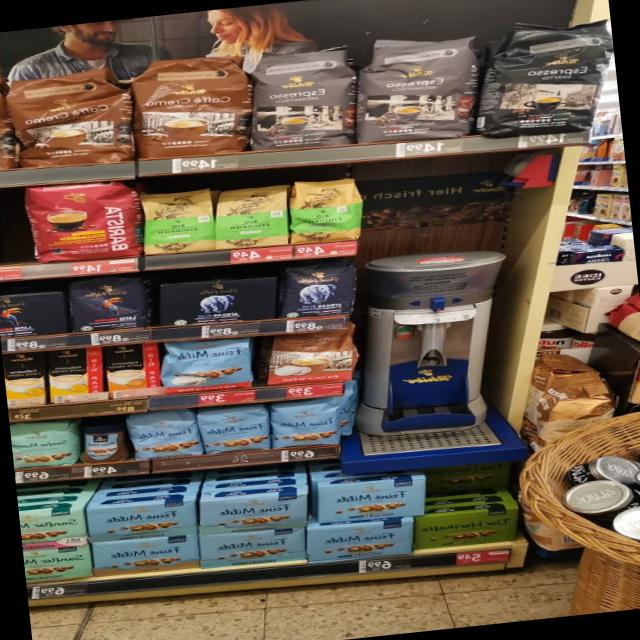AB Bohne: (277, 259, 367, 322)
AB Gemahlen: (152, 274, 282, 332)
Athiopien Bohne: (286, 175, 366, 246)
Athiopien Gemahlen: (208, 182, 295, 251), (138, 187, 216, 256)
Barista Kolumbien: (21, 178, 140, 267)
CC Vollmundig: (262, 327, 362, 389)
CC Vollmundig 36 Pads: (128, 53, 254, 162), (8, 65, 136, 170)
Espresso Aromatisch: (350, 31, 488, 147), (244, 44, 362, 152)
Espresso Kraftig: (468, 17, 618, 139)
FM 36 Pads: (157, 336, 258, 397)
FM Bohne: (267, 398, 345, 452), (196, 403, 271, 458), (126, 408, 200, 462)
FM Gemahlen: (310, 472, 436, 526), (194, 487, 312, 538), (306, 514, 416, 565), (85, 495, 199, 543), (89, 530, 200, 578), (198, 525, 309, 571)
FM Instant: (76, 420, 130, 464)
Herzhatfe Mundig: (409, 502, 525, 554)
LG Bohne: (63, 272, 153, 336)
SM Bohne: (10, 418, 78, 471)
